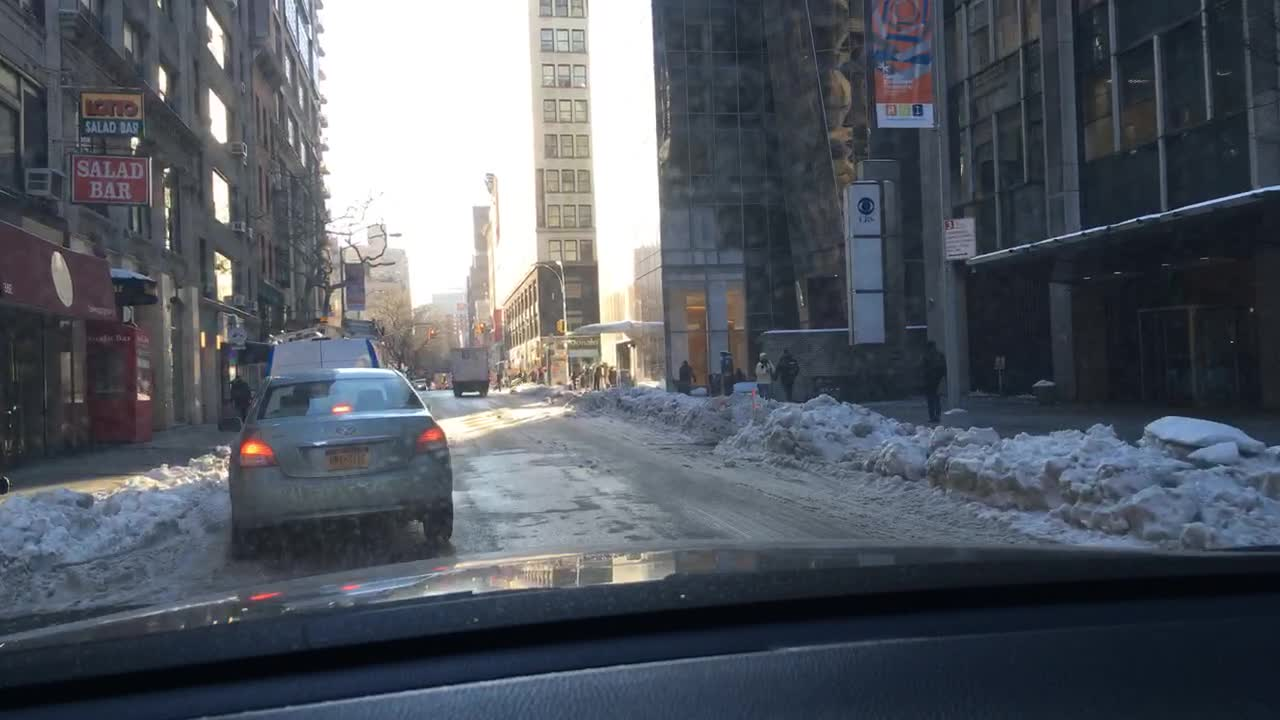car: (226, 372, 456, 557)
person: (920, 337, 950, 433), (772, 344, 802, 402), (750, 348, 780, 405)
truck: (449, 343, 493, 398)
